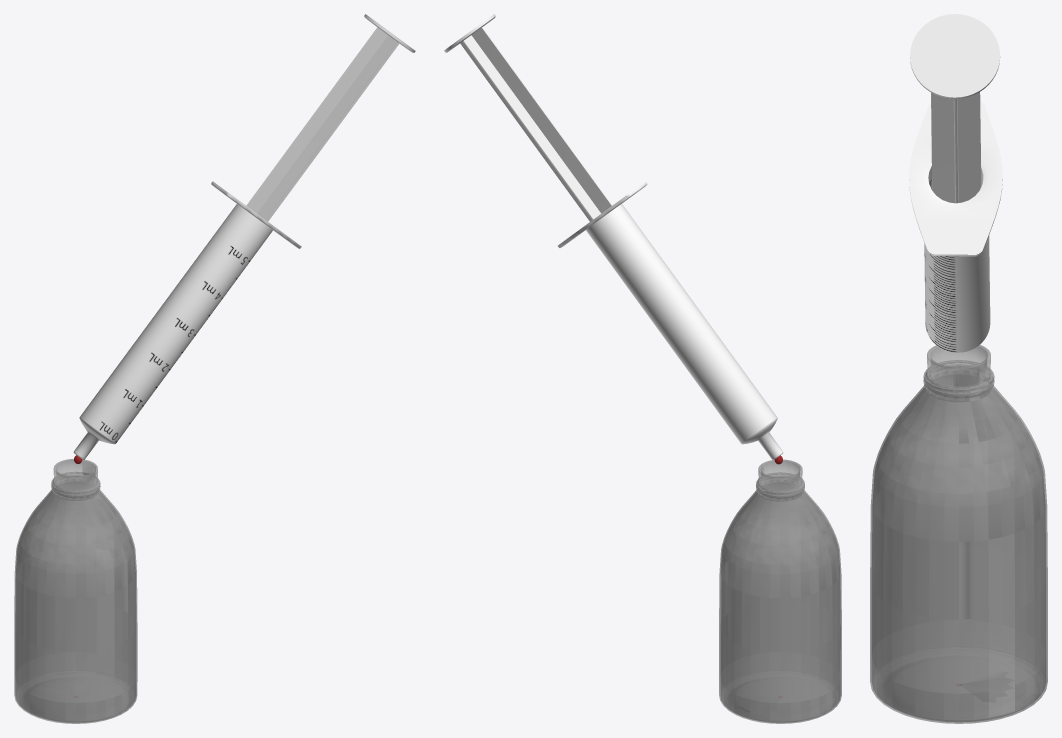
File: 积液收集_玻璃瓶0427.FBX
3 renders of one model, left to right at view 1: azimuth 30°, elevation 25°; view 2: azimuth 150°, elevation 25°; view 3: azimuth 270°, elevation 25°, orthographic. The views are drawn at different scales.
Parts seen in each view (by area): view 1: sj2_bottle, sj2_injector; view 2: sj2_bottle, sj2_injector; view 3: sj2_bottle, sj2_injector.
Part boxes in pixels (x1,y1,x2,y2): sj2_bottle: (14, 459, 137, 723); sj2_injector: (73, 14, 415, 459); sj2_bottle: (719, 459, 841, 723); sj2_injector: (444, 14, 783, 460); sj2_bottle: (870, 345, 1047, 723); sj2_injector: (909, 14, 1002, 352).
Bounding box in the file's own units: 23.58 × 35.65 × 6.51.
